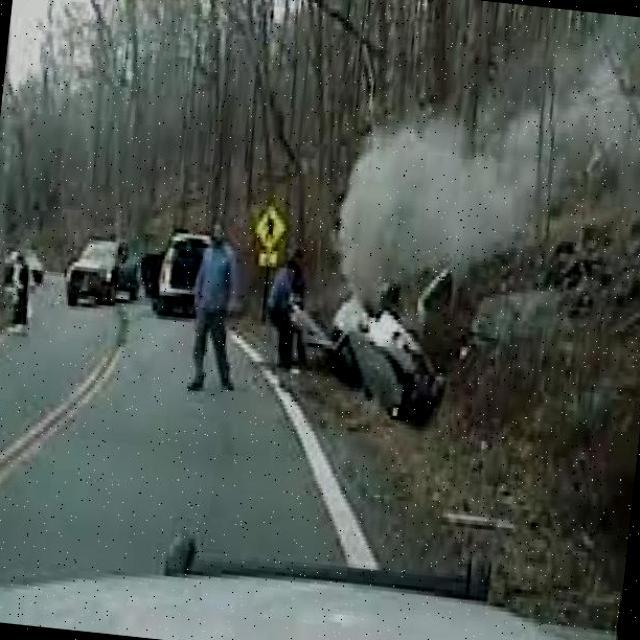accident: (293, 270, 462, 430)
